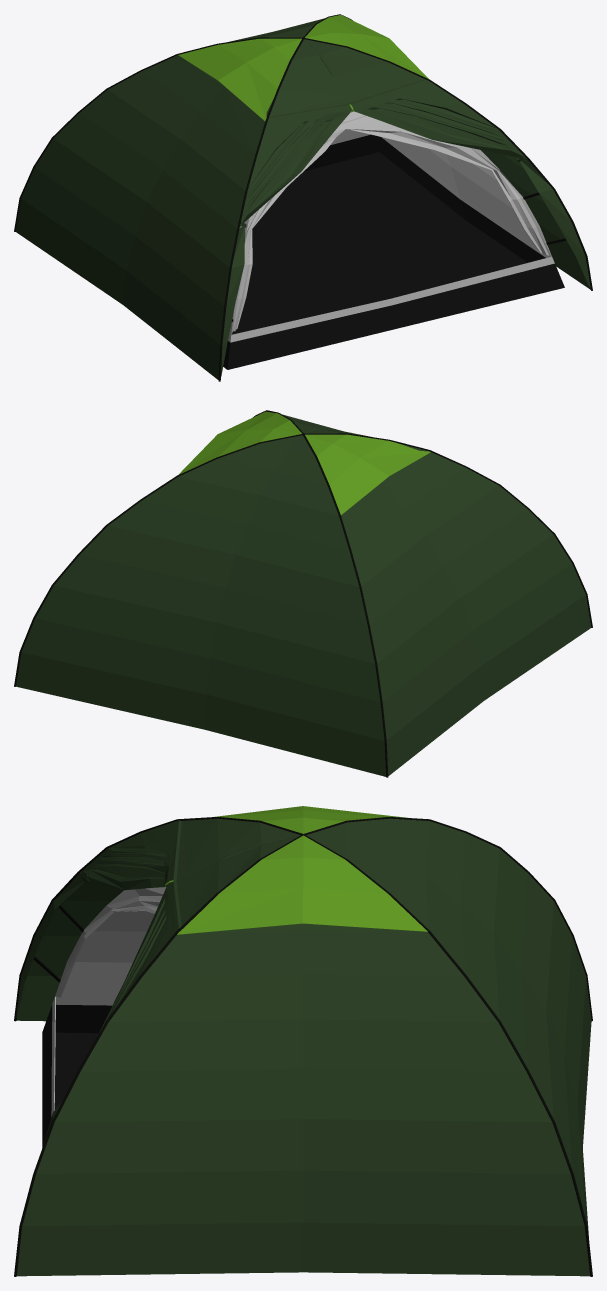
Rendered from campingTent.obj.
3 views of the same model, one above another, from view 1: azimuth 30°, elevation 25°; view 2: azimuth 150°, elevation 25°; view 3: azimuth 270°, elevation 25° (orthographic). The views are drawn at different scales.
Parts seen in each view (by area): view 1: extTent_Cube, intTent_Cube.001, extTent.001_Cube.004, extTent.002_Cube.005, sticks_Cube.001; view 2: extTent_Cube, extTent.002_Cube.005, sticks_Cube.001; view 3: extTent_Cube, extTent.002_Cube.005, intTent_Cube.001, extTent.001_Cube.004, sticks_Cube.001.
Part boxes in pixels (x1,y1,x2,y2): extTent_Cube: [15, 18, 590, 379]; intTent_Cube.001: [223, 111, 564, 369]; extTent.001_Cube.004: [240, 83, 526, 226]; extTent.002_Cube.005: [178, 15, 429, 120]; sticks_Cube.001: [14, 14, 592, 381]; extTent_Cube: [16, 411, 591, 776]; extTent.002_Cube.005: [178, 411, 430, 514]; sticks_Cube.001: [14, 410, 592, 777]; extTent_Cube: [16, 818, 591, 1276]; extTent.002_Cube.005: [177, 806, 427, 934]; intTent_Cube.001: [42, 887, 166, 1147]; extTent.001_Cube.004: [80, 822, 173, 1036]; sticks_Cube.001: [14, 817, 592, 1276].
Bounding box in the file's own units: 248 × 141 × 236.
